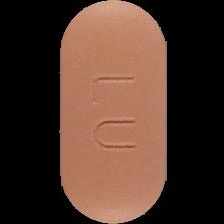68180-221: (0, 0, 224, 224)
